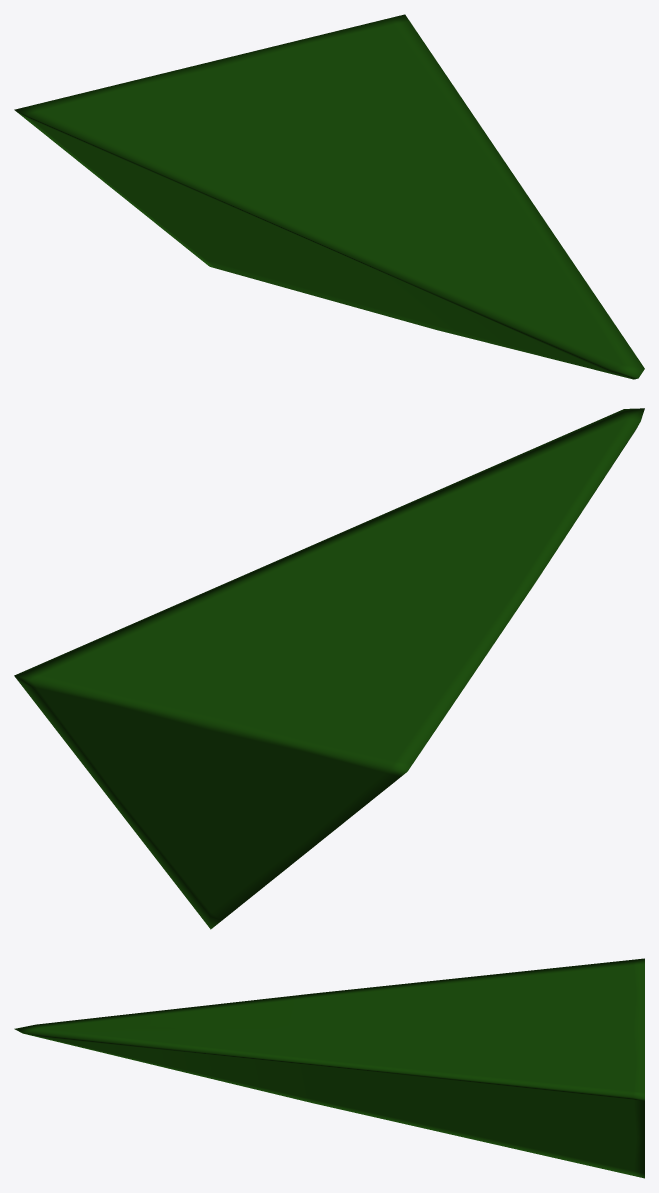
Rendered from testshape.obj.
The picture shows the model from 3 angles, top to bottom: view 1: azimuth 30°, elevation 25°; view 2: azimuth 150°, elevation 25°; view 3: azimuth 270°, elevation 25°; orthographic projection. The views are drawn at different scales.
Visible parts, largest first — view 1: Cone_Cone.001; view 2: Cone_Cone.001; view 3: Cone_Cone.001.
Boxes of the visible parts, <box> form: Cone_Cone.001: <box>14,14,644,379</box>; Cone_Cone.001: <box>14,408,644,929</box>; Cone_Cone.001: <box>14,958,644,1178</box>.
Size of the model in its own units: 1 by 0.5 by 1.91.
